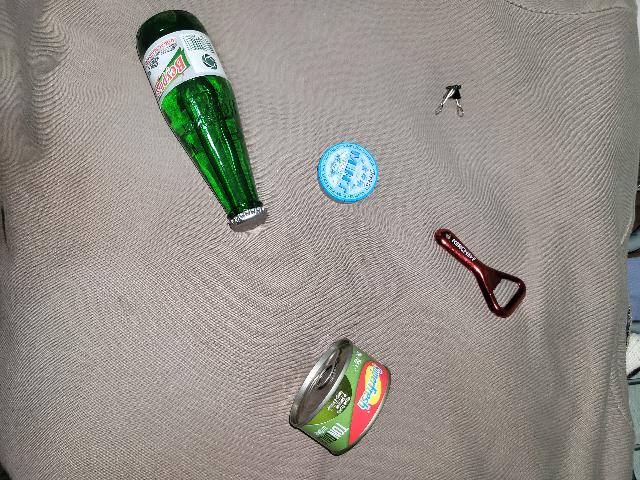Cam: (125, 9, 272, 227)
Metal: (282, 333, 395, 459), (432, 217, 528, 326), (315, 144, 378, 205), (223, 206, 276, 236), (437, 79, 466, 120)
